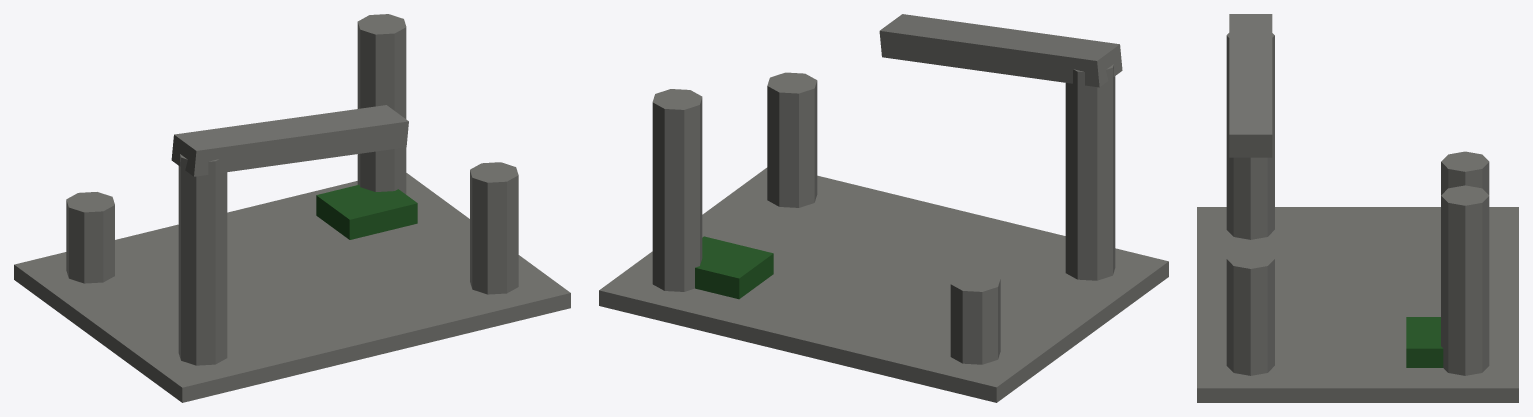
Rendered from SM_GZ_ruin.fbx.
The picture shows the model from 3 angles, left to right: view 1: azimuth 30°, elevation 25°; view 2: azimuth 150°, elevation 25°; view 3: azimuth 270°, elevation 25°; orthographic projection. The views are drawn at different scales.
Parts seen in each view (by area): view 1: SM_GZ_ruin; view 2: SM_GZ_ruin; view 3: SM_GZ_ruin.
Part boxes in pixels (x1,y1,x2,y2): SM_GZ_ruin: [14, 14, 570, 402]; SM_GZ_ruin: [599, 14, 1168, 402]; SM_GZ_ruin: [1197, 14, 1518, 402].
Bounding box in the file's own units: 800 × 457 × 600.
